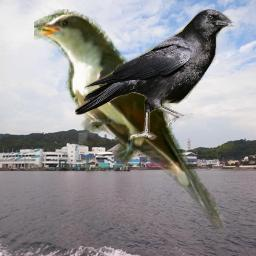Crow: (75, 8, 239, 142)
Cuckoo: (34, 8, 226, 229)
